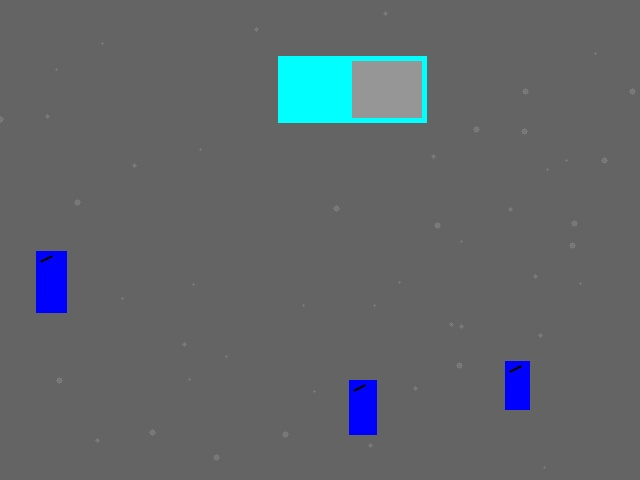motorcycle: (36, 251, 66, 312), (349, 380, 376, 434), (505, 361, 529, 409)
truck: (278, 56, 426, 122)
